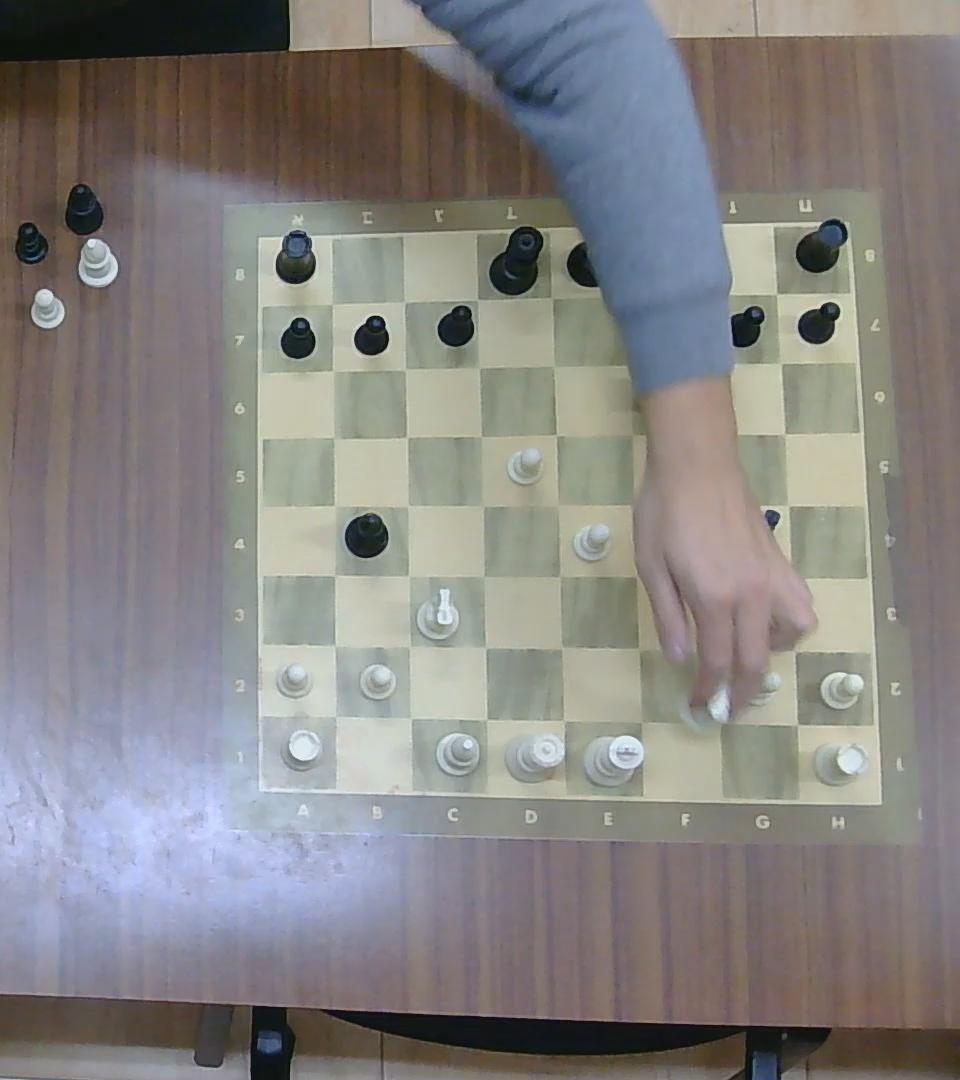xcorner: (545, 630, 577, 662), (624, 704, 656, 736), (622, 631, 653, 664), (470, 702, 501, 734), (547, 704, 578, 736), (781, 706, 812, 738), (319, 630, 350, 661), (703, 706, 734, 737), (777, 561, 808, 592), (320, 699, 350, 731), (394, 701, 424, 732), (779, 634, 809, 665), (621, 561, 651, 592), (701, 634, 731, 665), (470, 631, 500, 661), (393, 631, 423, 660), (545, 560, 574, 590), (469, 562, 498, 591), (543, 490, 573, 518), (393, 561, 422, 589), (617, 419, 645, 448), (699, 491, 727, 520), (694, 350, 723, 378), (320, 561, 348, 589), (774, 490, 802, 518), (619, 490, 647, 518), (702, 563, 728, 593), (468, 490, 495, 518), (393, 491, 421, 518), (543, 420, 571, 447), (321, 491, 349, 517), (616, 350, 642, 378), (618, 279, 643, 308), (393, 422, 419, 448), (318, 356, 344, 382), (467, 422, 493, 448), (319, 422, 345, 448), (772, 420, 798, 446), (700, 420, 726, 446), (464, 286, 491, 311), (540, 283, 565, 310), (543, 351, 568, 377), (318, 291, 344, 316), (695, 280, 719, 306), (466, 353, 490, 378), (765, 281, 790, 305), (768, 350, 792, 374), (391, 356, 415, 379), (391, 290, 415, 313)
